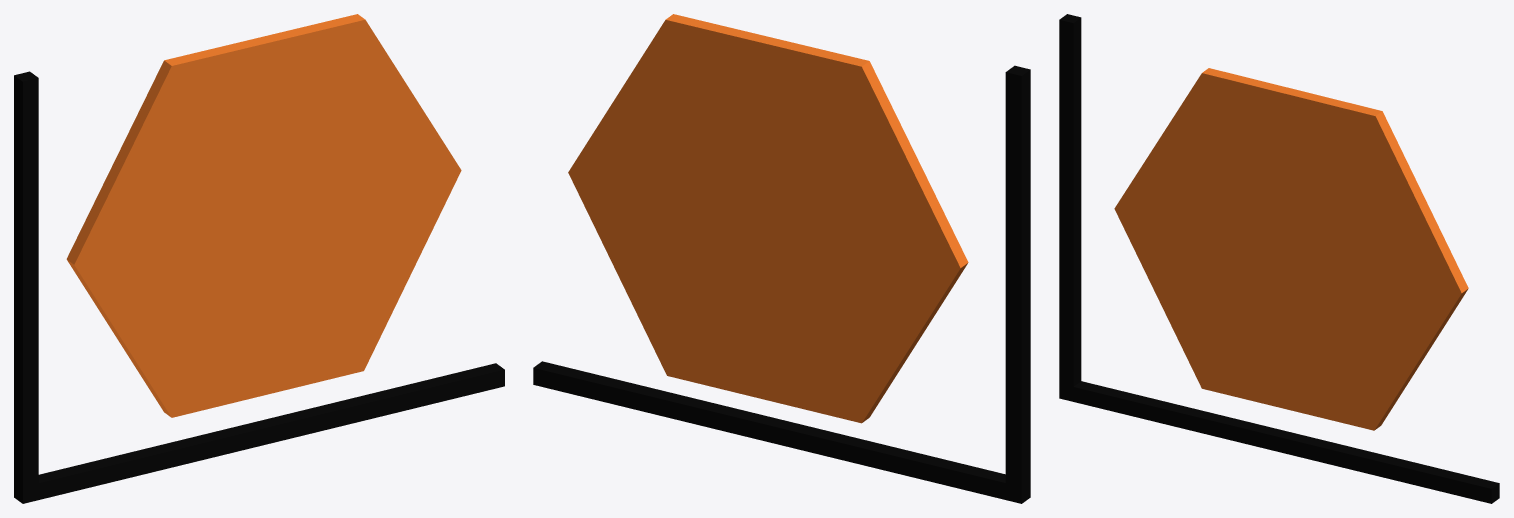
The model's file is poligonos.fbx.
The picture shows the model from 3 angles, left to right: view 1: azimuth 30°, elevation 25°; view 2: azimuth 150°, elevation 25°; view 3: azimuth 330°, elevation 25°; orthographic projection. The views are drawn at different scales.
Parts seen in each view (by area): view 1: Mesh_1.001, Mesh_0.004; view 2: Mesh_1.001, Mesh_0.004; view 3: Mesh_1.001, Mesh_0.004.
Boxes of the visible parts, <box> form: Mesh_1.001: <box>66,14,461,417</box>; Mesh_0.004: <box>14,71,504,503</box>; Mesh_1.001: <box>568,14,968,423</box>; Mesh_0.004: <box>533,65,1030,503</box>; Mesh_1.001: <box>1114,68,1468,430</box>; Mesh_0.004: <box>1059,14,1499,503</box>.
Size of the model in its own units: 7.17 by 6 by 0.3281.
